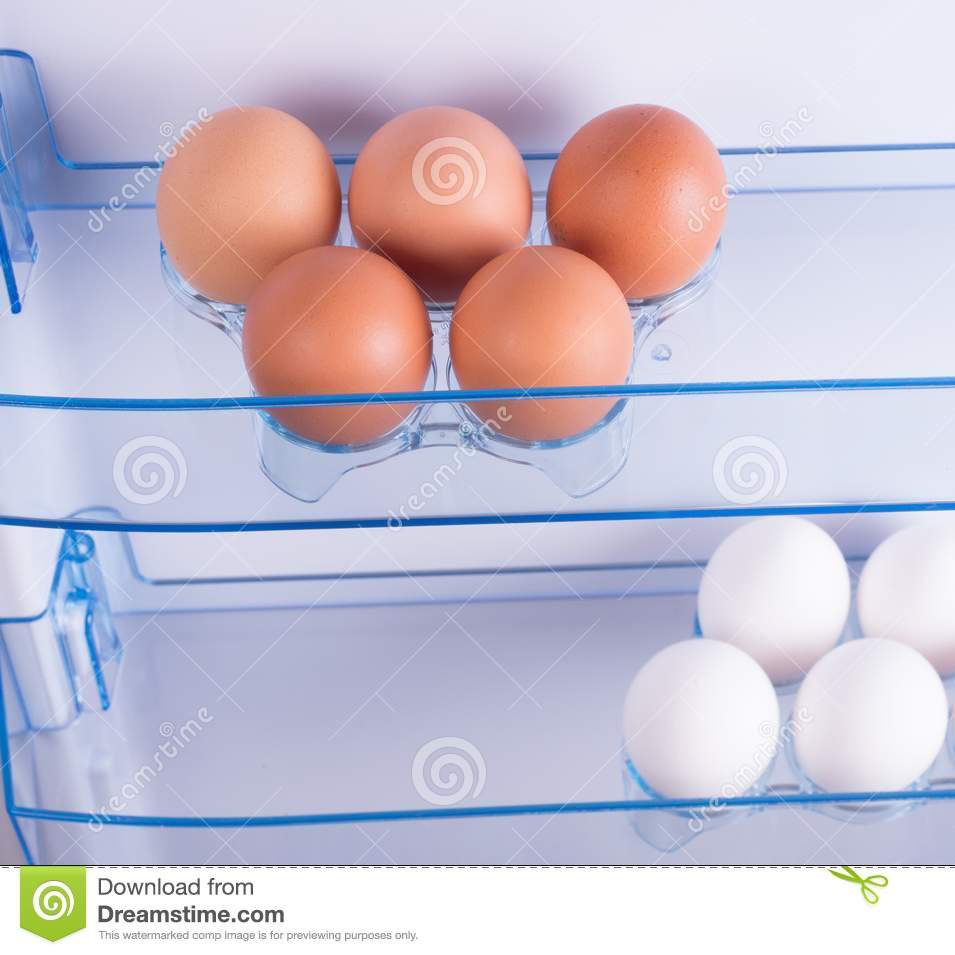egg: (147, 99, 729, 455), (615, 504, 955, 797)
